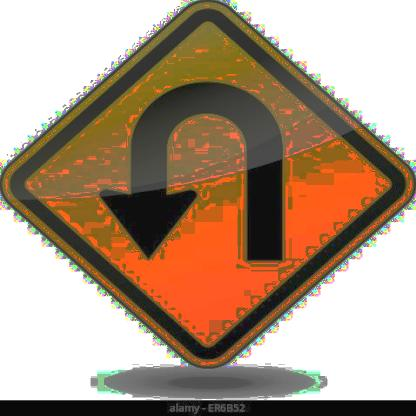U-turn: (0, 3, 416, 370)
